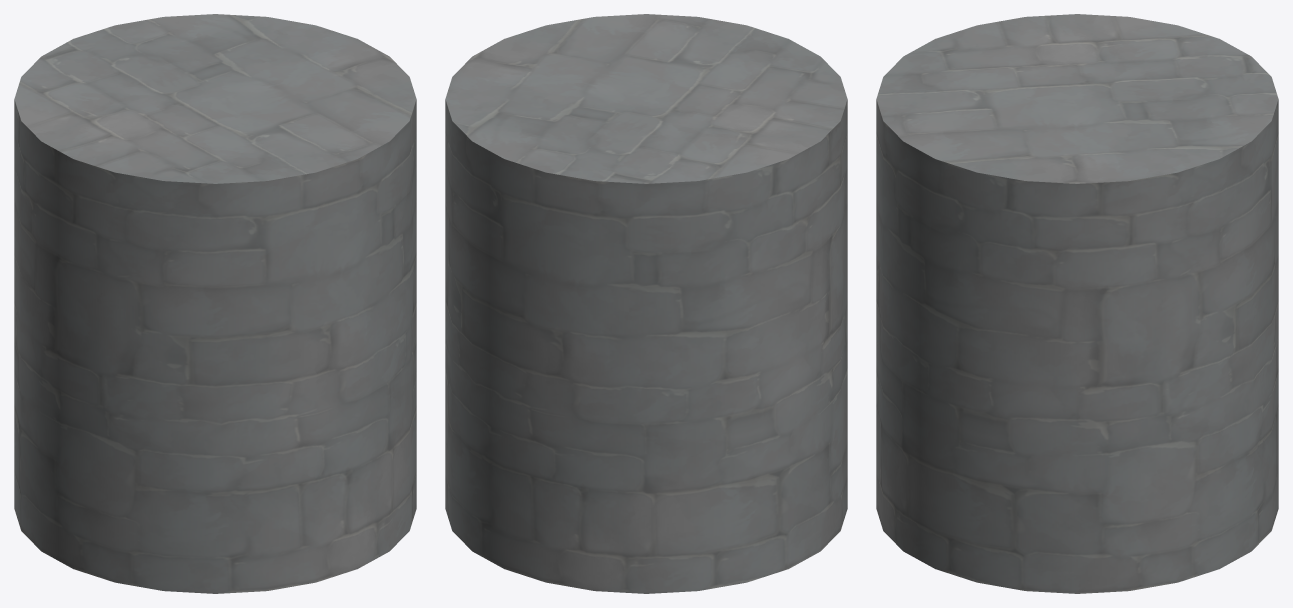
File: SM_TowerC_Mid.fbx
The picture shows the model from 3 angles, left to right: view 1: azimuth 30°, elevation 25°; view 2: azimuth 150°, elevation 25°; view 3: azimuth 270°, elevation 25°; orthographic projection.
Visible parts, largest first — view 1: SM_TowerC_Mid_LOD0; view 2: SM_TowerC_Mid_LOD0; view 3: SM_TowerC_Mid_LOD0.
Boxes of the visible parts, x1,y1,x2,y2 form: SM_TowerC_Mid_LOD0: (14, 14, 416, 593); SM_TowerC_Mid_LOD0: (445, 14, 847, 593); SM_TowerC_Mid_LOD0: (876, 14, 1278, 593).
Size of what is drawn, in the model's own units: 400 by 450 by 400.
